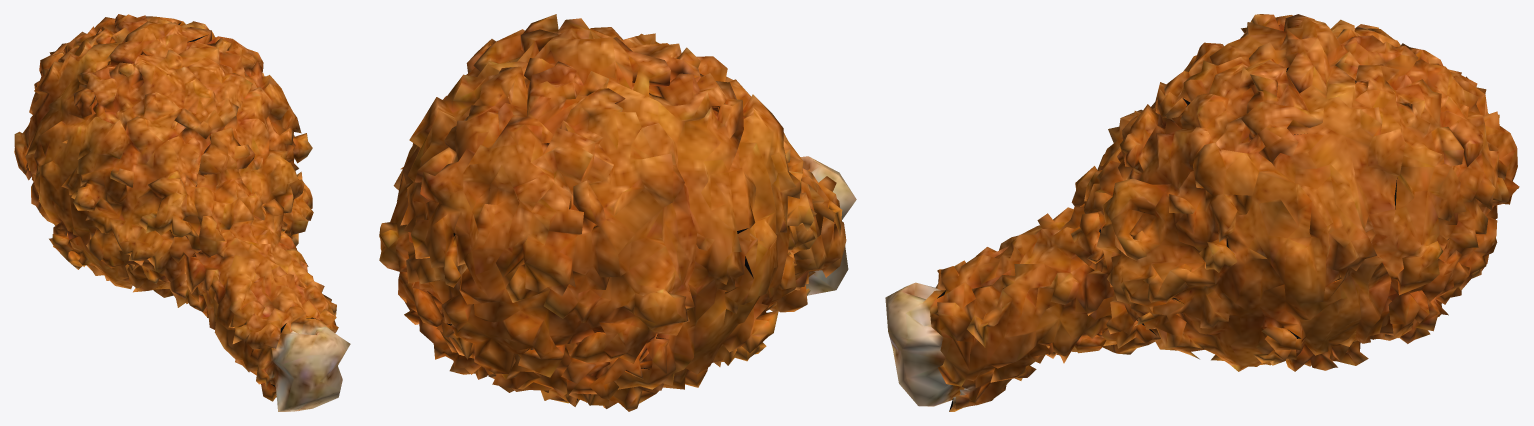
Rendered from food-chicken.glb.
3 renders of one model, left to right at view 1: azimuth 30°, elevation 25°; view 2: azimuth 150°, elevation 25°; view 3: azimuth 270°, elevation 25°, orthographic. The views are drawn at different scales.
Visible parts, largest first — view 1: Model; view 2: Model; view 3: Model.
Part boxes in pixels (left/top/right/bottom): Model: left=14, top=14, right=350, bottom=411; Model: left=379, top=14, right=856, bottom=411; Model: left=885, top=14, right=1519, bottom=411.
Size of the model in its own units: 1.1 by 1.26 by 1.9.
1 material, 1 textured.
